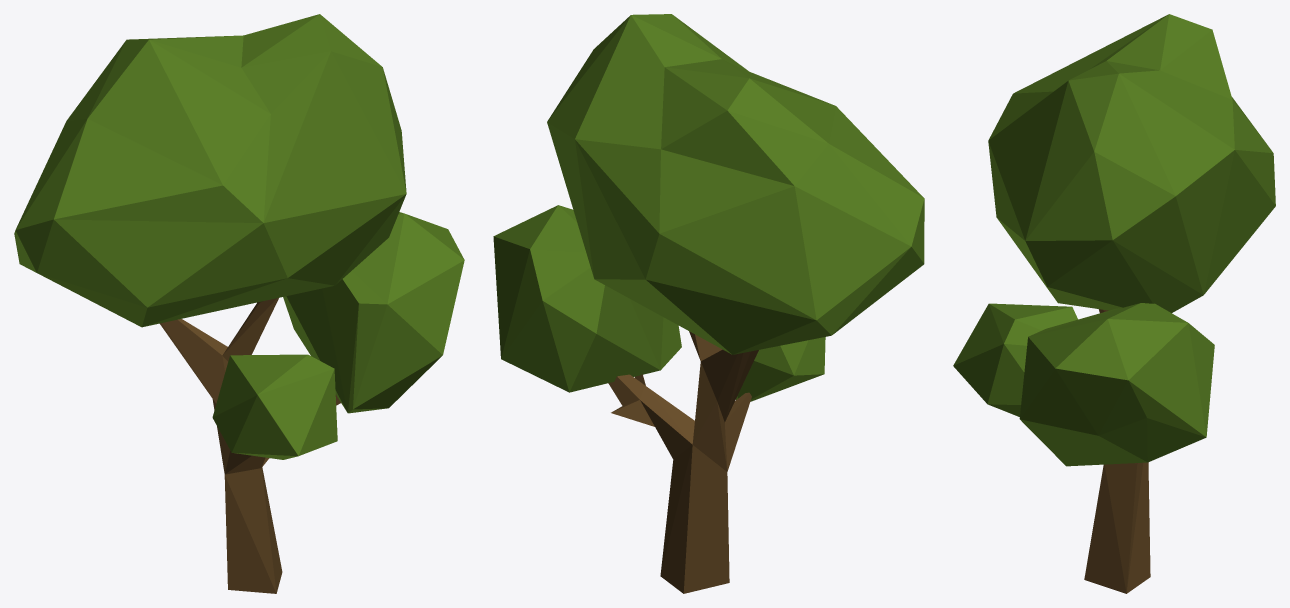
3 renders of one model, left to right at view 1: azimuth 30°, elevation 25°; view 2: azimuth 150°, elevation 25°; view 3: azimuth 270°, elevation 25°, orthographic. The views are drawn at different scales.
Visible parts, largest first — view 1: Tree1_1; view 2: Tree1_1; view 3: Tree1_1.
Part boxes in pixels (box(x1,y1,x2,y2)): Tree1_1: box(14, 14, 464, 593); Tree1_1: box(493, 14, 924, 593); Tree1_1: box(953, 14, 1275, 593).
Bounding box in the file's own units: 5.93 × 7.35 × 4.01.
